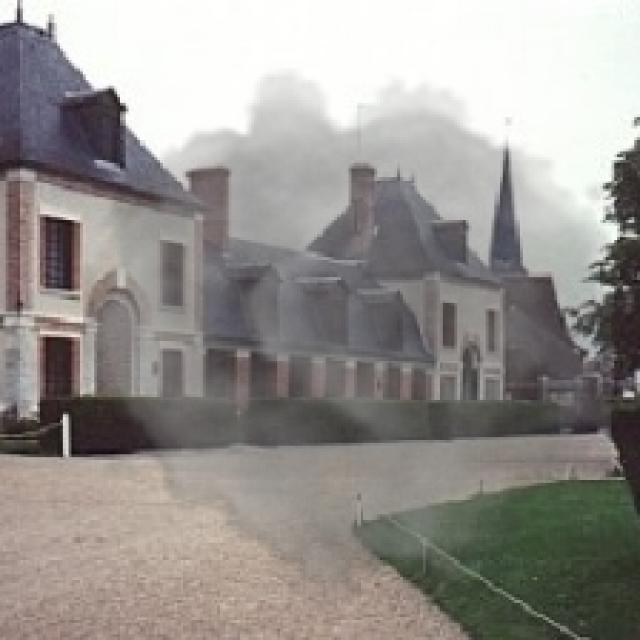smoke: (83, 69, 611, 614)
